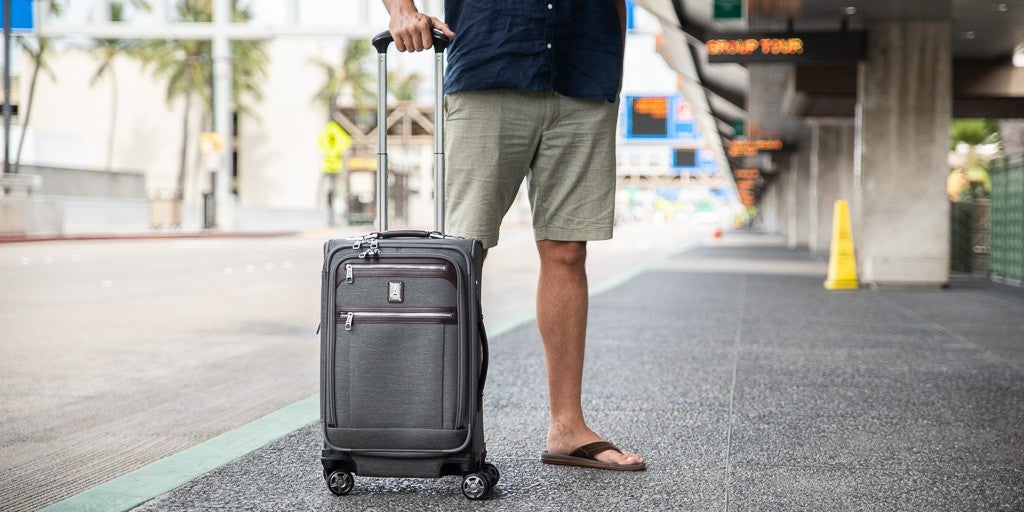luggage: (308, 16, 506, 507)
